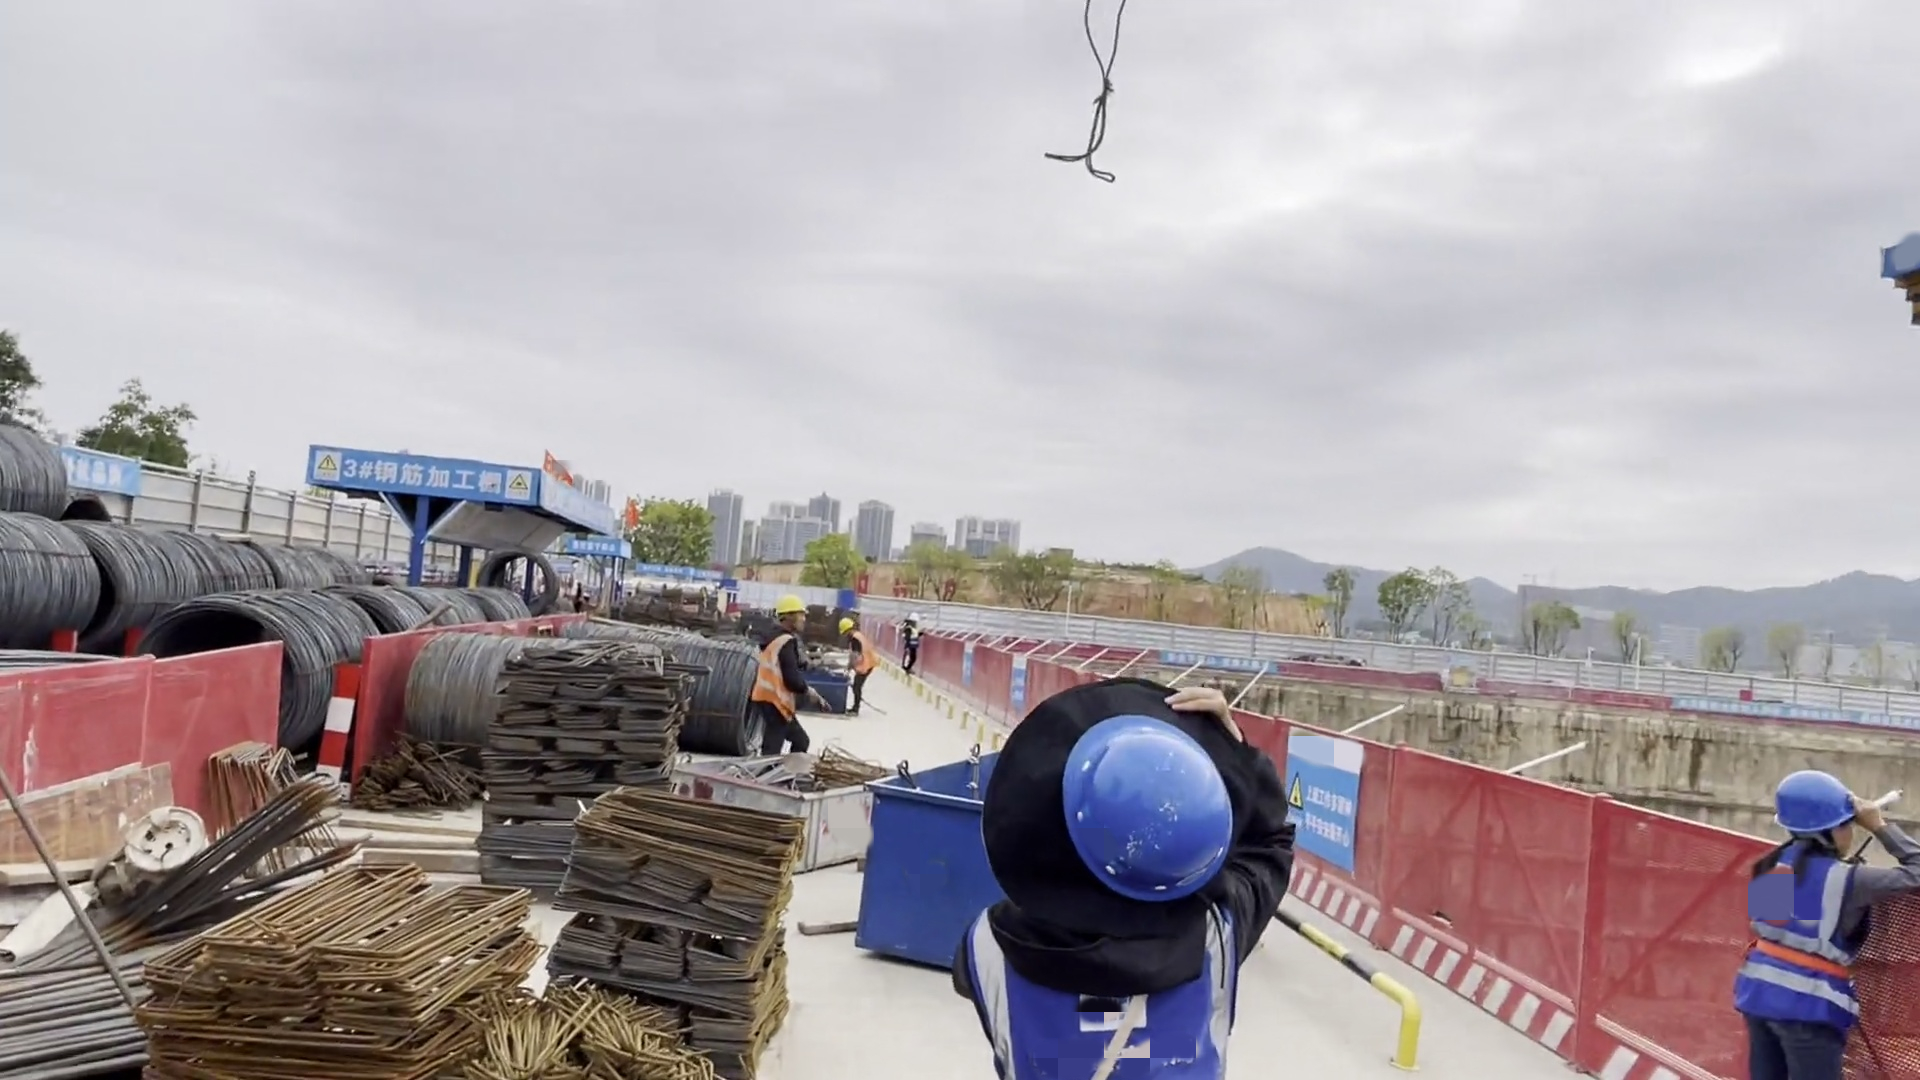fence: (1283, 725, 1709, 1080), (150, 468, 329, 552)
helmet: (1038, 723, 1232, 894), (1769, 759, 1870, 830), (773, 596, 809, 613), (840, 615, 858, 632), (906, 611, 922, 622)
hopper: (851, 747, 990, 988), (689, 745, 869, 885), (812, 668, 845, 710)
person: (969, 675, 1297, 1080), (1733, 765, 1894, 1080), (754, 594, 823, 757), (837, 612, 882, 722), (898, 610, 929, 677)
slogan: (338, 451, 533, 498), (1293, 749, 1356, 845), (57, 451, 135, 500), (548, 496, 619, 522), (643, 560, 695, 585), (572, 540, 621, 560)
vest: (993, 889, 1282, 1080), (1725, 859, 1859, 1051), (758, 634, 814, 727), (847, 639, 881, 691), (905, 631, 920, 649)
